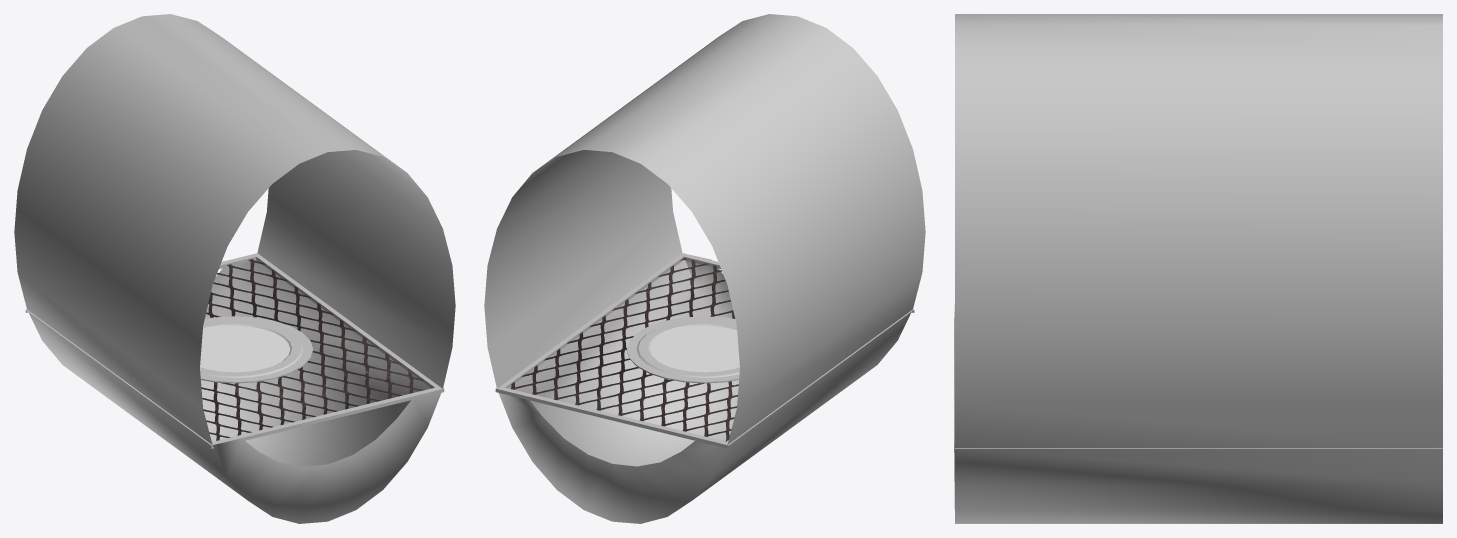
File: Module_Straight_B.fbx
3 views of the same model, side by side, from view 1: azimuth 30°, elevation 25°; view 2: azimuth 150°, elevation 25°; view 3: azimuth 270°, elevation 25° (orthographic). The views are drawn at different scales.
Parts seen in each view (by area): view 1: Module_Straight_B; view 2: Module_Straight_B; view 3: Module_Straight_B.
Part boxes in pixels (<box>): Module_Straight_B: <box>14,14,455,523</box>; Module_Straight_B: <box>484,14,925,523</box>; Module_Straight_B: <box>954,14,1442,523</box>.
Bounding box in the file's own units: 902 × 1245 × 1136.
